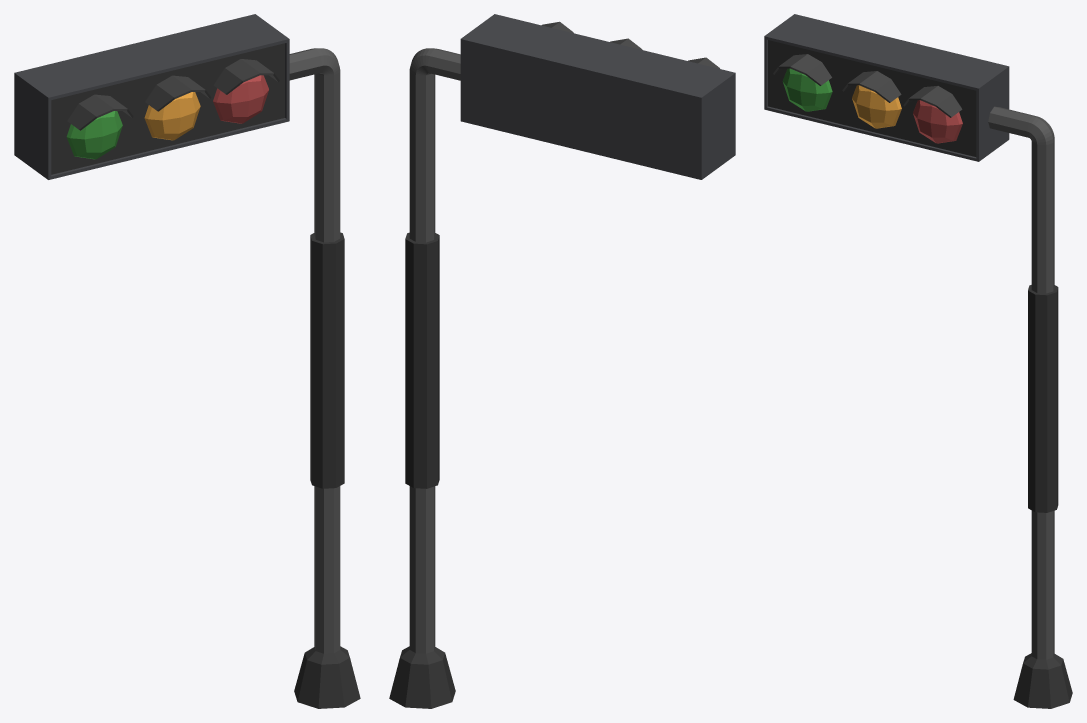
Rendered from trafficlamp02.fbx.
3 renders of one model, left to right at view 1: azimuth 30°, elevation 25°; view 2: azimuth 150°, elevation 25°; view 3: azimuth 330°, elevation 25°, orthographic. The views are drawn at different scales.
Visible parts, largest first — view 1: Cube.510; view 2: Cube.510; view 3: Cube.510.
Boxes of the visible parts, x1,y1,x2,y2 form: Cube.510: (14, 14, 360, 708); Cube.510: (389, 14, 735, 708); Cube.510: (764, 14, 1072, 708).
Bounding box in the file's own units: 352 × 704 × 98.23.
